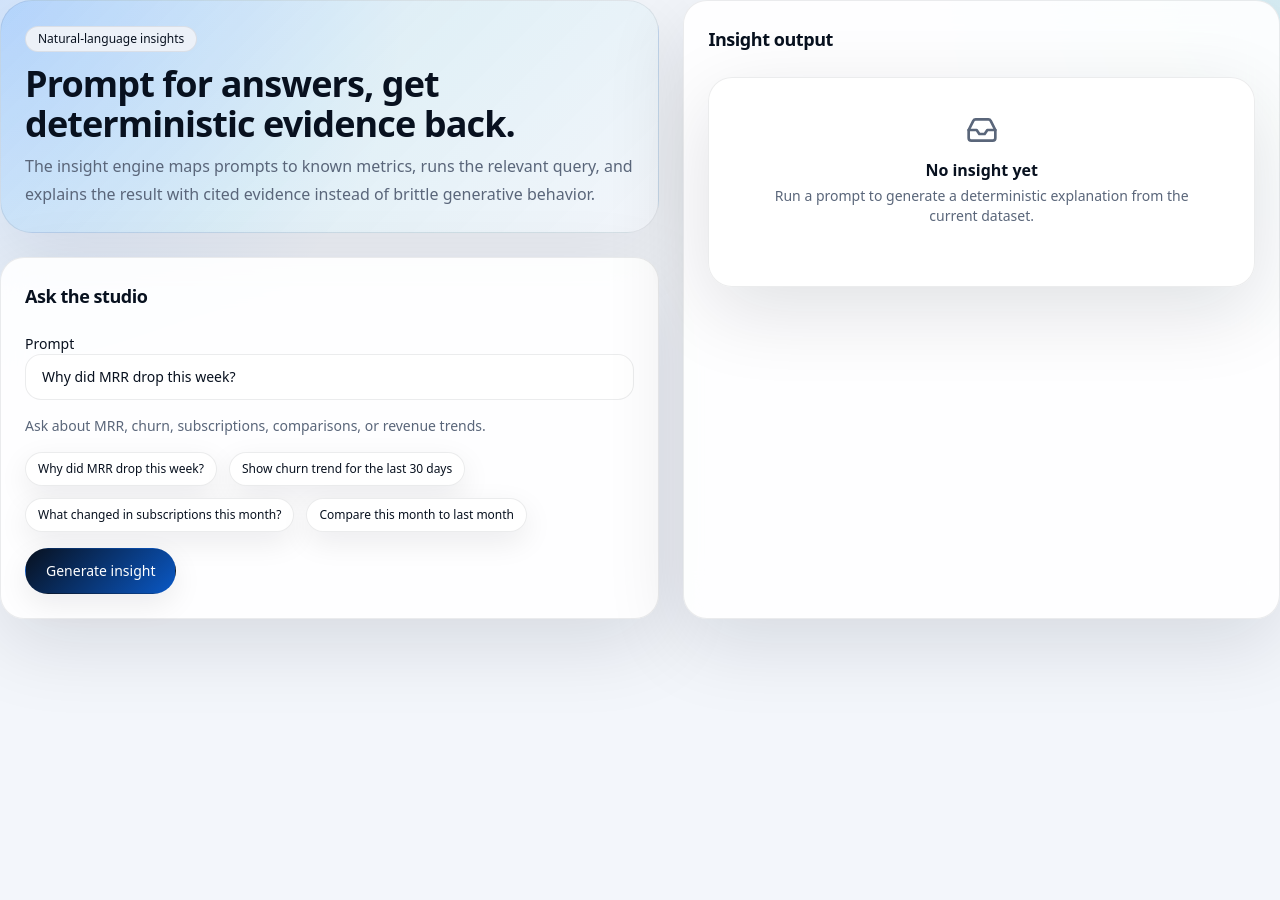
Test: InsightsPage › generates an explanation from a prompt
Click the button "Generate insight": (101, 571) [25,548,176,594]
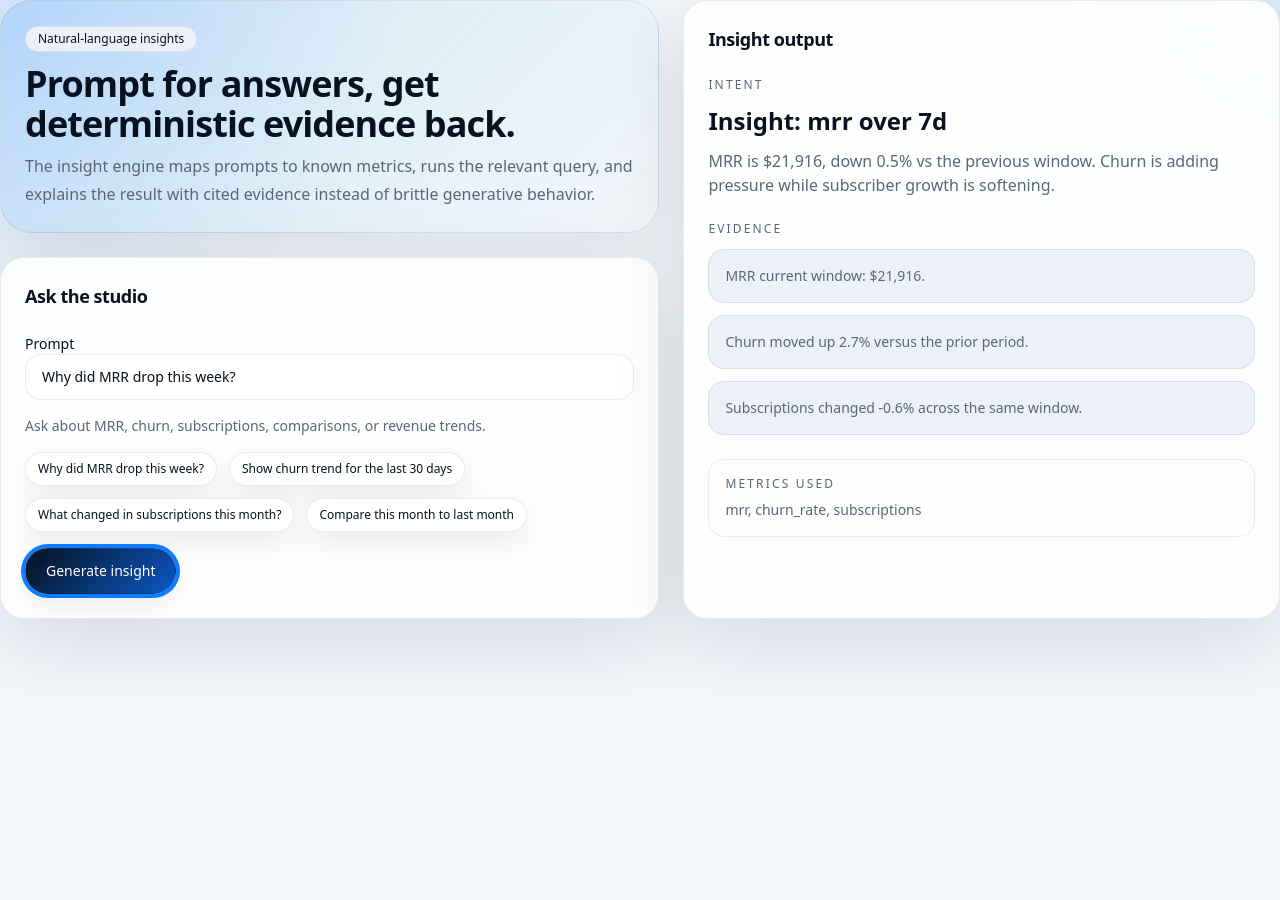
expect the heading "Insight: mrr over 7d" is shown: met, box [708,104,947,137]
expect the text "Metrics used" is shown: met, box [725,475,835,492]
